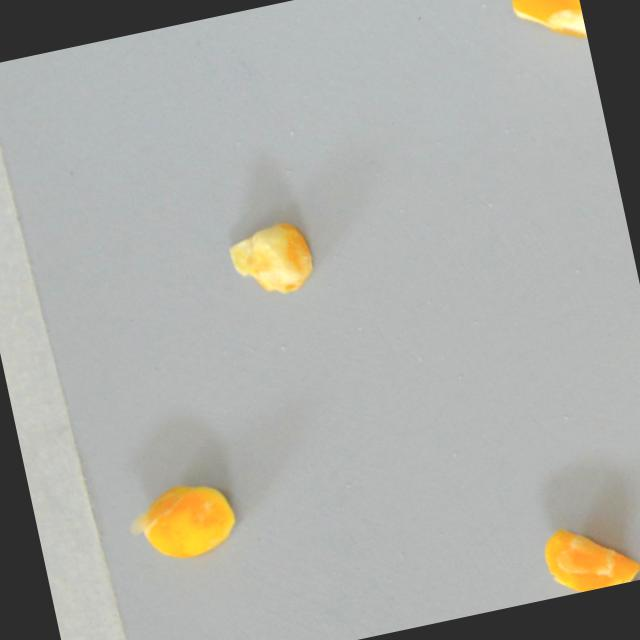no_desgerminado: (220, 212, 322, 305)
pelicula: (114, 468, 252, 577), (534, 509, 640, 598), (506, 0, 587, 51)
